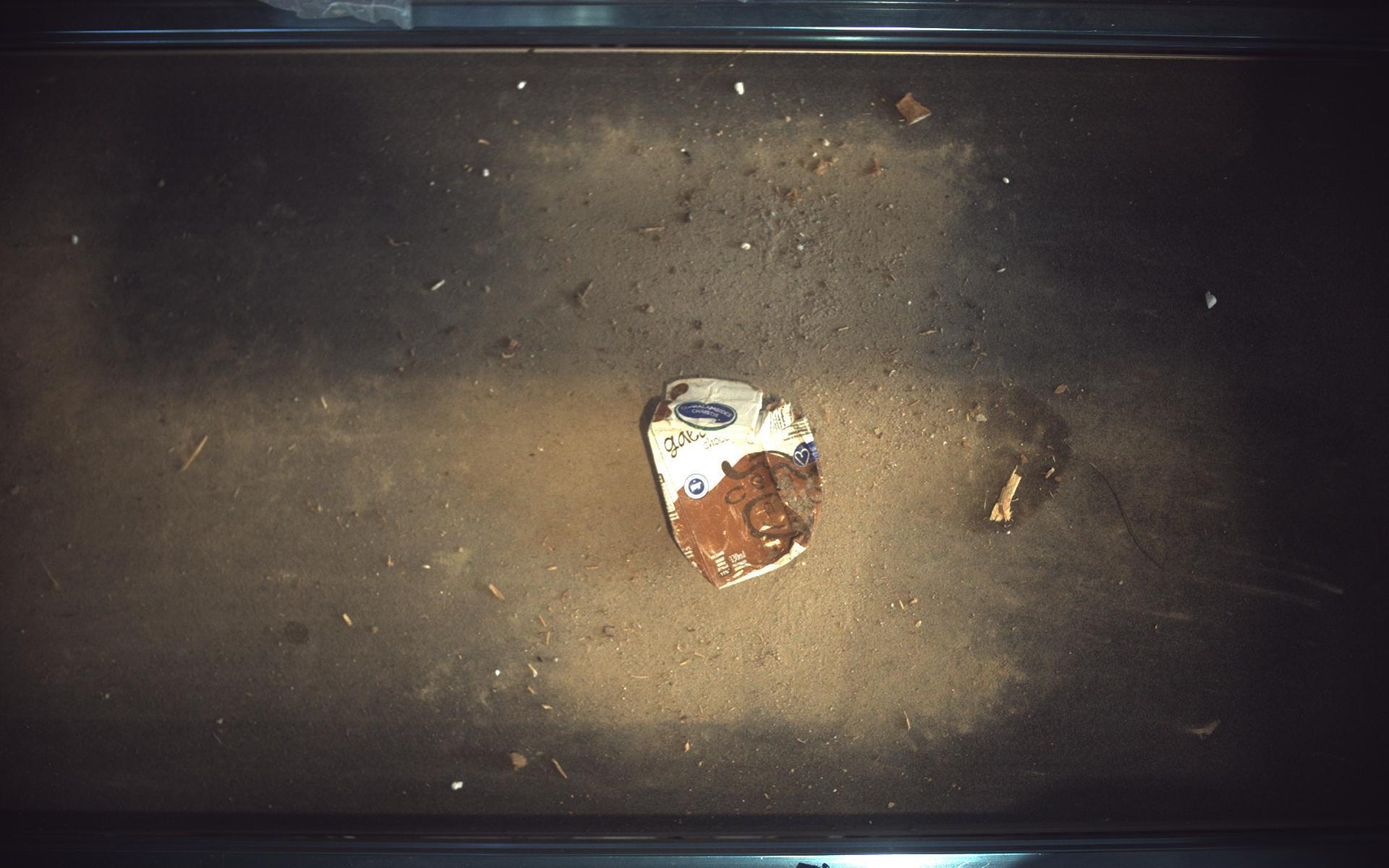general_w: (648, 378, 823, 589)
